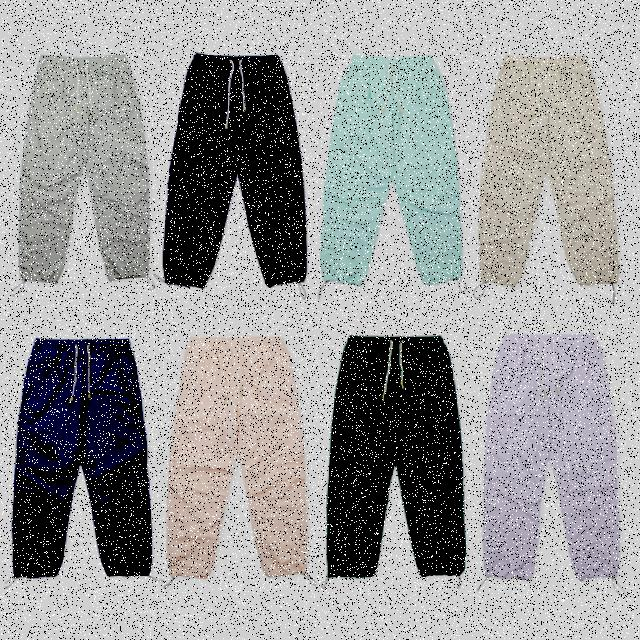Blouse_deep: (323, 43, 467, 282), (166, 334, 304, 576), (319, 339, 465, 565), (8, 336, 149, 567), (482, 57, 622, 285), (17, 47, 148, 290), (486, 338, 616, 580), (169, 50, 304, 280)
